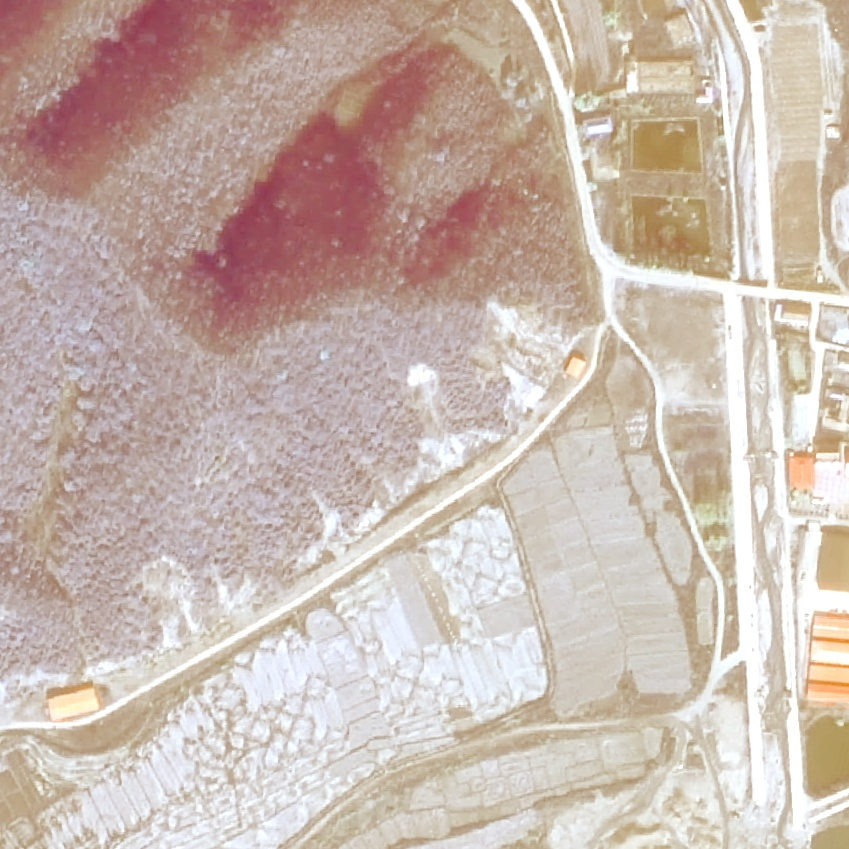slope: (283, 292, 569, 565), (131, 544, 202, 654)
